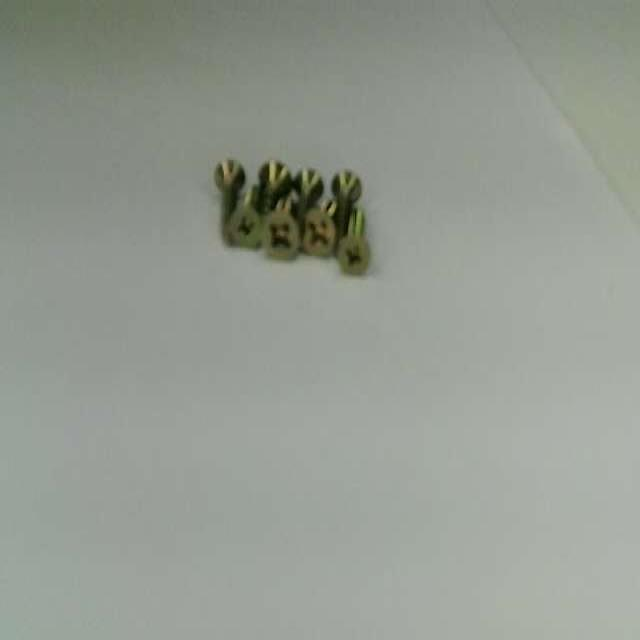Parafuso: (213, 157, 245, 243), (263, 197, 299, 259), (338, 209, 370, 273), (332, 169, 361, 237), (231, 187, 262, 248), (294, 168, 323, 229), (304, 201, 336, 256), (259, 160, 291, 213)
